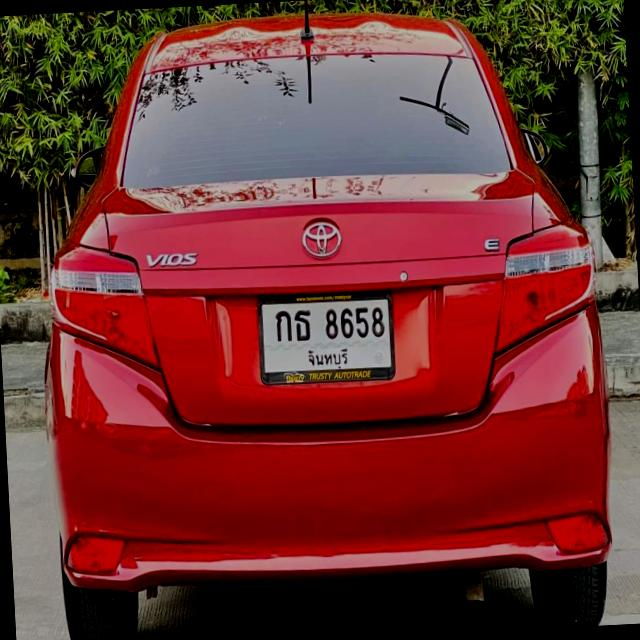license_plate: (256, 284, 398, 384)
